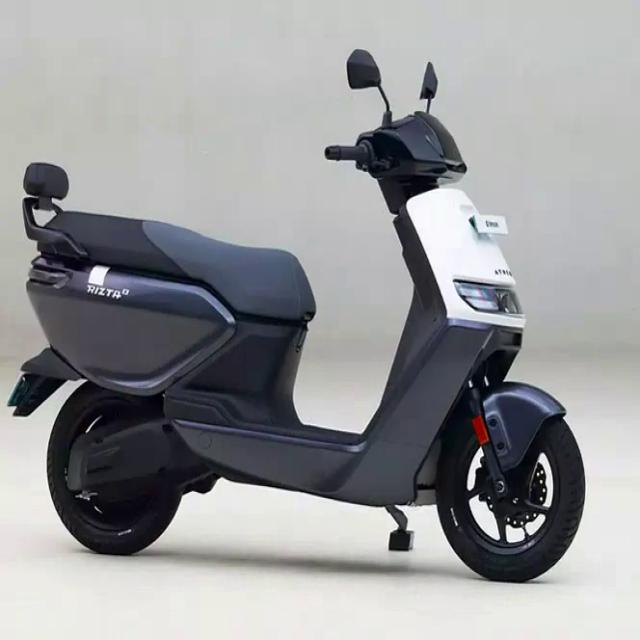objects: (11, 20, 594, 604)
